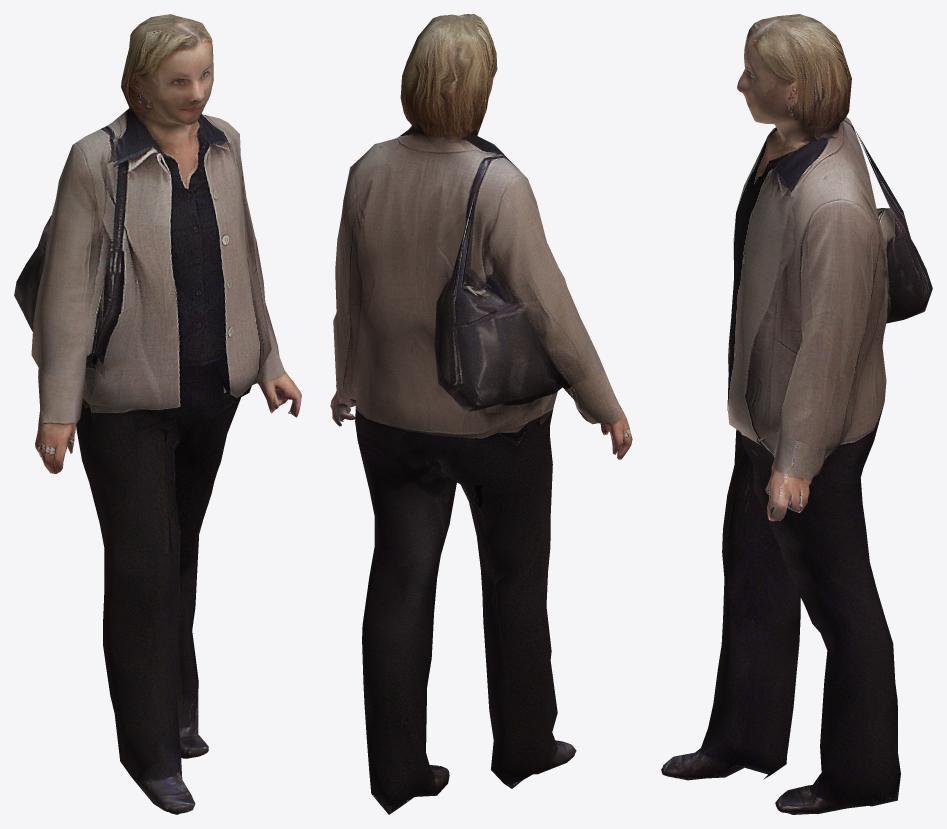
The model's file is Person_14.obj.
3 renders of one model, left to right at view 1: azimuth 30°, elevation 25°; view 2: azimuth 150°, elevation 25°; view 3: azimuth 270°, elevation 25°, orthographic. The views are drawn at different scales.
Parts seen in each view (by area): view 1: Person_14; view 2: Person_14; view 3: Person_14.
Boxes of the visible parts, x1=… form: Person_14: x1=14, y1=14, x2=301, y2=814; Person_14: x1=330, y1=14, x2=632, y2=814; Person_14: x1=661, y1=14, x2=932, y2=814.
Bounding box in the file's own units: 0.6715 × 1.74 × 0.5489.
Materials: 1 (1 with a texture image).
